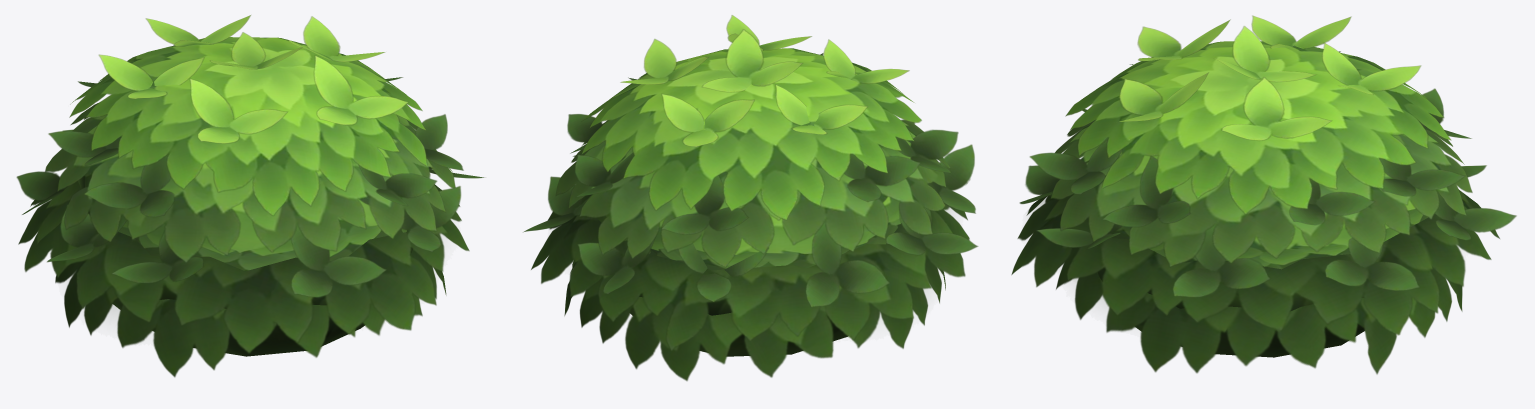
Rendered from bush.glb.
3 renders of one model, left to right at view 1: azimuth 30°, elevation 25°; view 2: azimuth 150°, elevation 25°; view 3: azimuth 270°, elevation 25°, orthographic. The views are drawn at different scales.
Parts seen in each view (by area): view 1: RPG_Bush; view 2: RPG_Bush; view 3: RPG_Bush.
Boxes of the visible parts, box(x1,y1,x2,y2) form: RPG_Bush: box(16, 15, 484, 377); RPG_Bush: box(523, 15, 978, 380); RPG_Bush: box(1011, 15, 1516, 374).
Size of the model in its own units: 0.4774 by 0.3044 by 0.5.
Materials: 1 (1 with a texture image).
